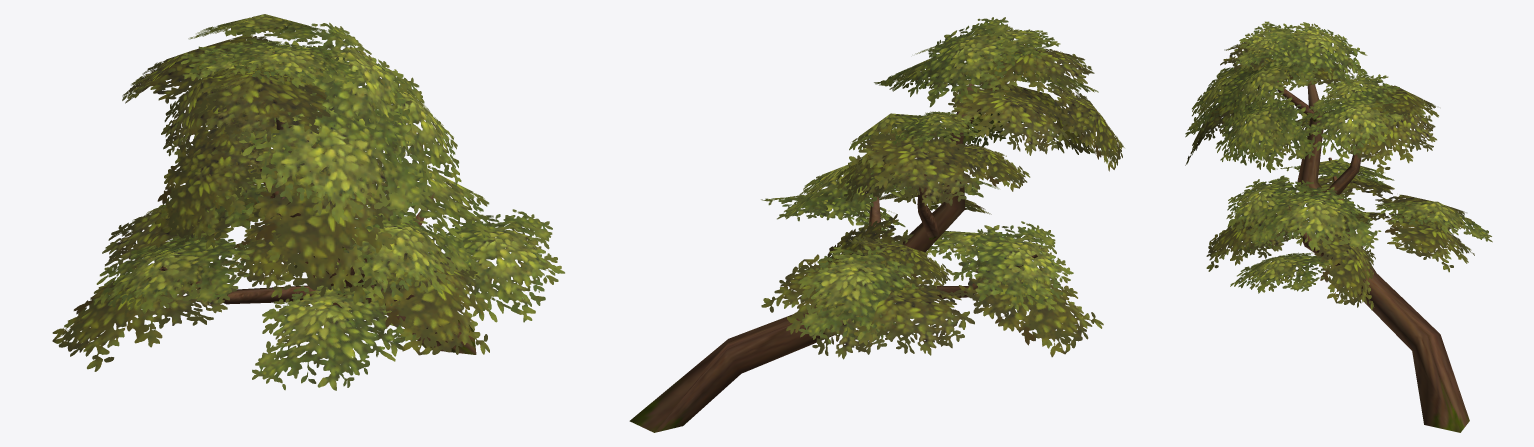
The model's file is tree03.FBX.
3 views of the same model, side by side, from view 1: azimuth 30°, elevation 25°; view 2: azimuth 150°, elevation 25°; view 3: azimuth 270°, elevation 25° (orthographic). The views are drawn at different scales.
Visible parts, largest first — view 1: 2_Plant_Shu_02; view 2: 2_Plant_Shu_02; view 3: 2_Plant_Shu_02.
Boxes of the visible parts, <box> form: 2_Plant_Shu_02: <box>52,14,564,390</box>; 2_Plant_Shu_02: <box>629,17,1124,432</box>; 2_Plant_Shu_02: <box>1185,21,1492,432</box>.
Bounding box in the file's own units: 438 × 390 × 421.
